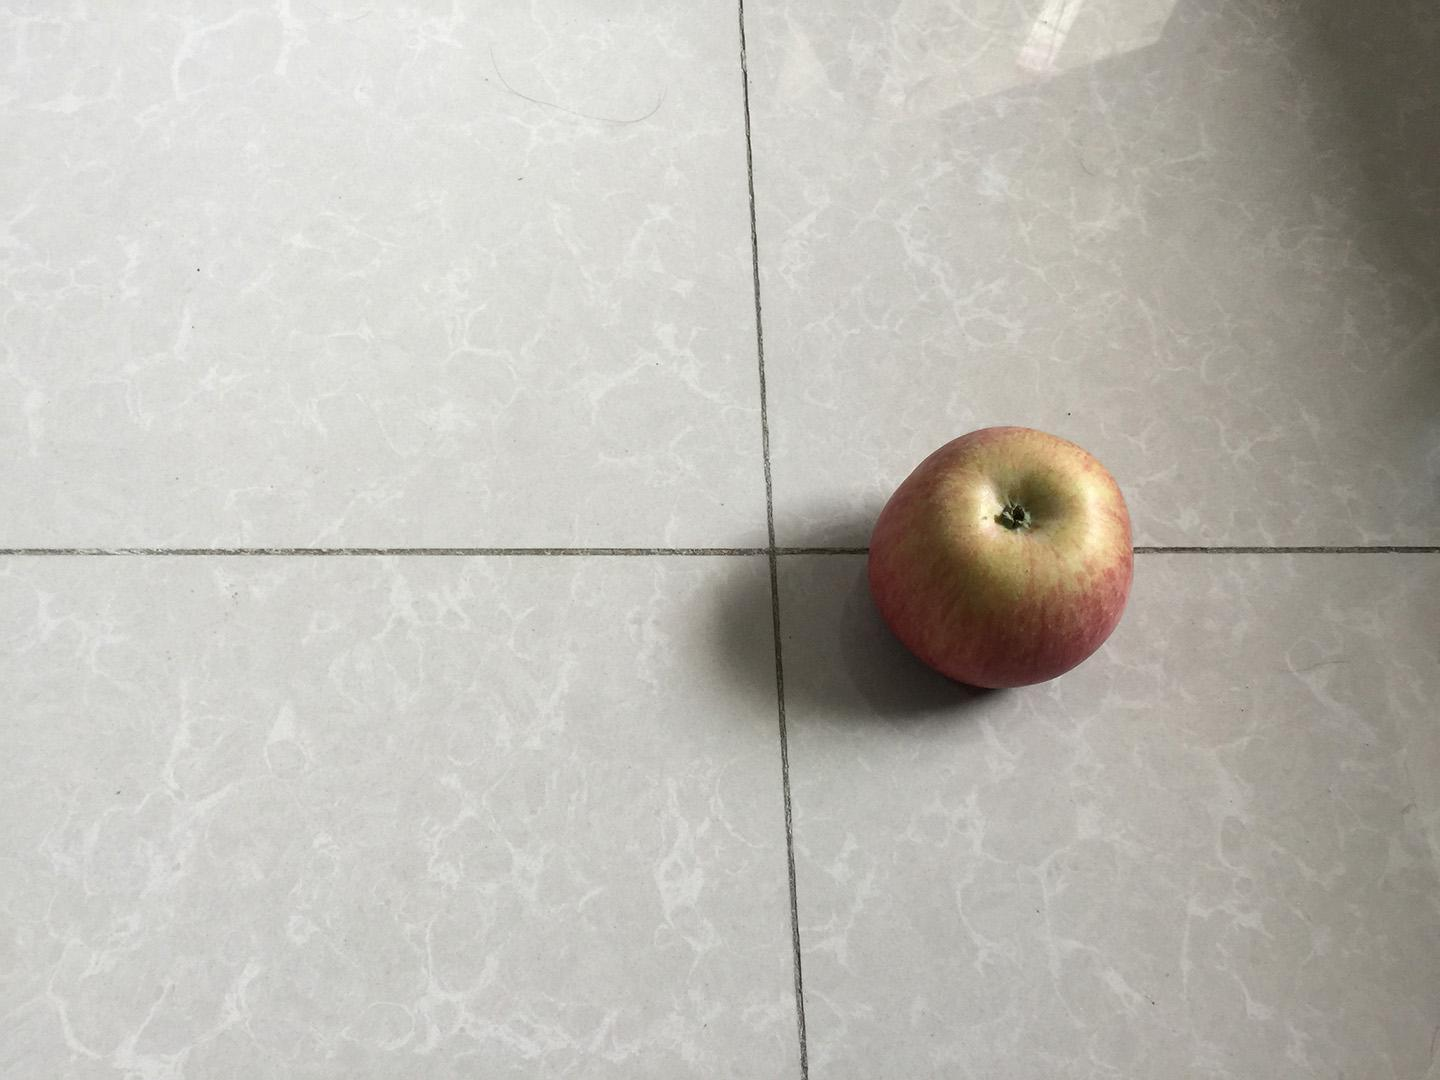apple: (864, 421, 1140, 693)
